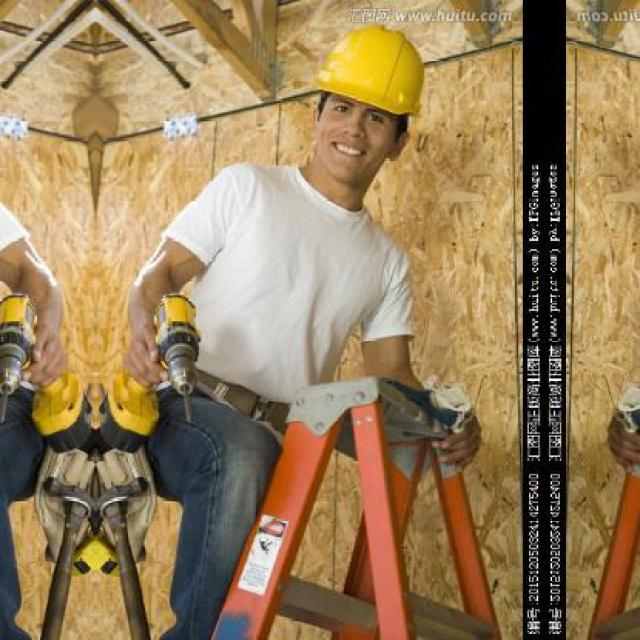helmet: (287, 12, 439, 206)
